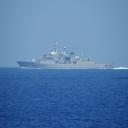Fragata: (18, 39, 116, 71)
